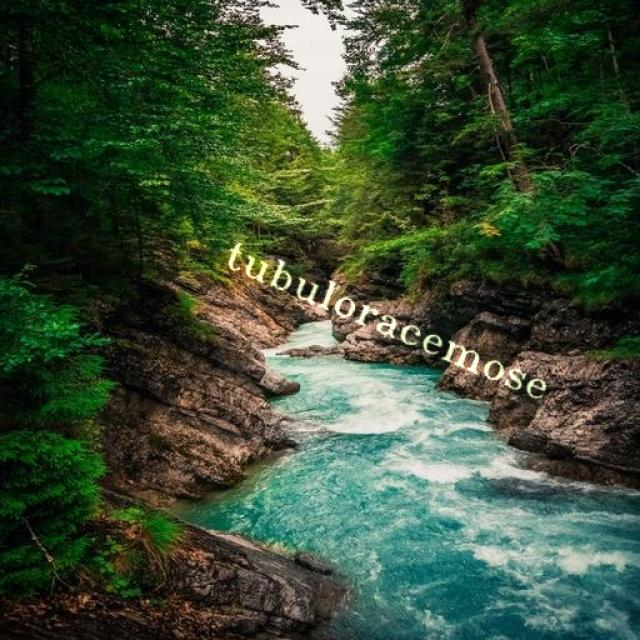watermark: (212, 235, 571, 408)
